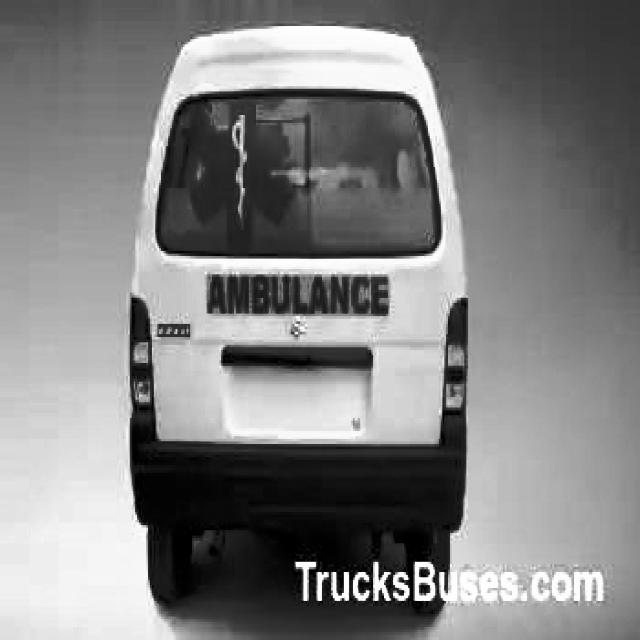Ambulance: (107, 21, 500, 606)
